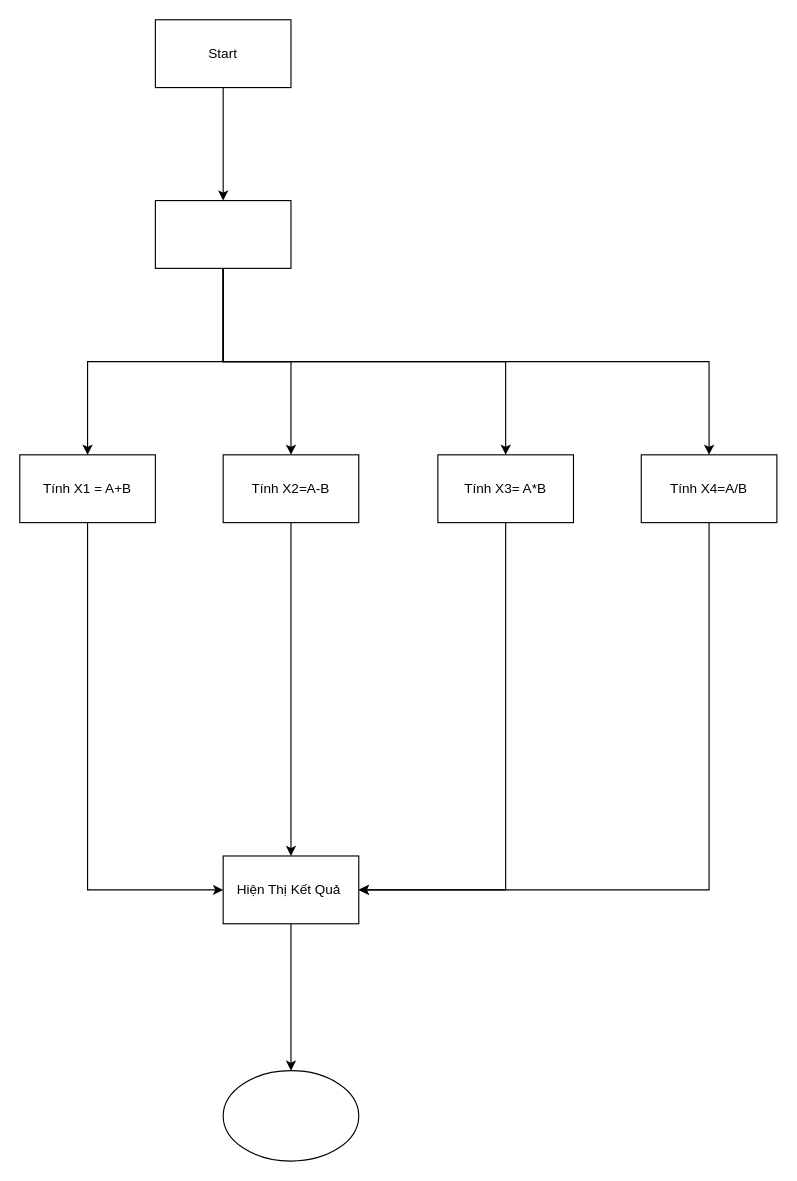
This 797x1181 diagram has some shape labels left out. The shapes that lost their labels are listed below. From the top down, each one's centre as x and y in pixels, then its label:
pixel 222 233: Nhập giá trị a và b
pixel 290 1115: Kết Thúc
